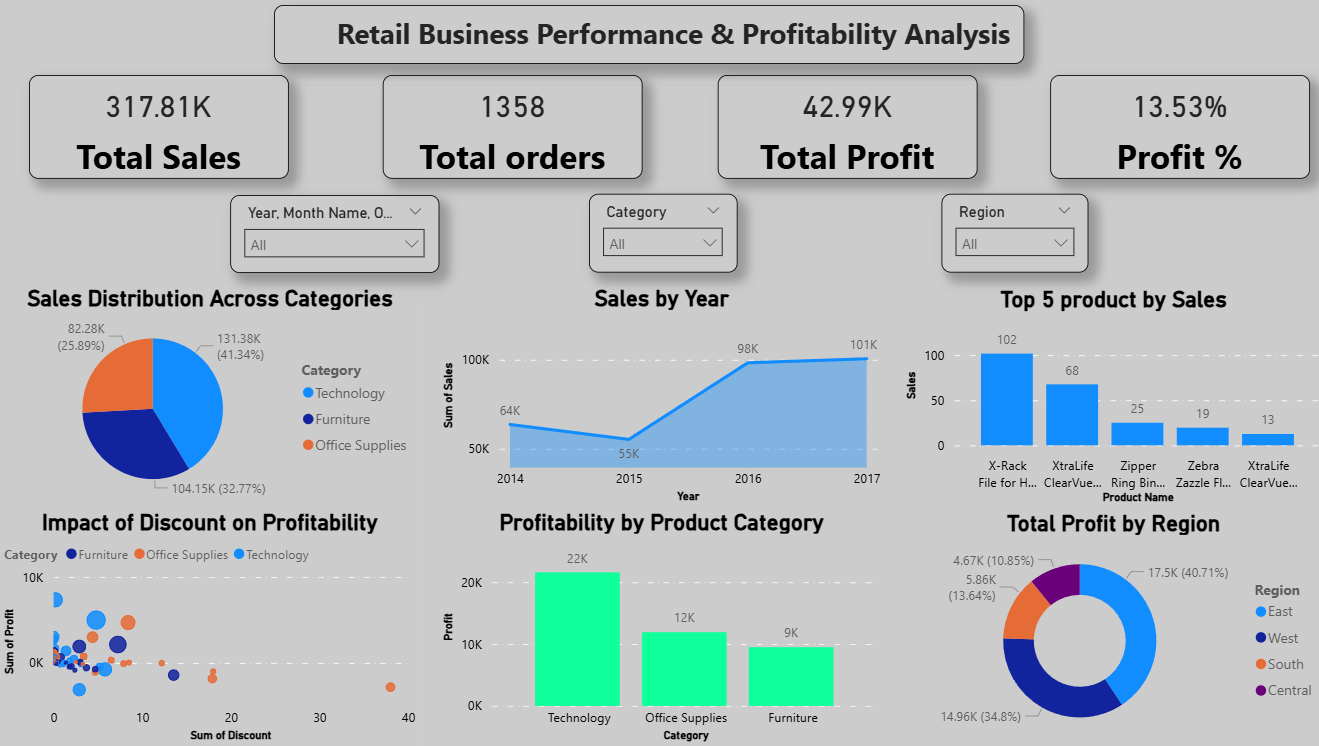

The dashboard page shown, as its layout file describes it:
{"tool":"powerbi","page":{"name":"Page 1","canvas":[1280,720],"ordinal":0},"visuals":[{"type":"card","fields":{"Values":["Sample - Superstore.Total Sales"]},"box":[28.6,72.9,250,100],"z":0},{"type":"card","fields":{"Values":["Sum(Sample - Superstore.Profit)"]},"box":[692.9,72.9,250,100],"z":1000},{"type":"lineChart","title":"Sales by Year","fields":{"Category":["Sample - Superstore.Year"],"Y":["Sum(Sample - Superstore.Sales)"]},"box":[423.3,275,431.7,215],"z":2000},{"type":"scatterChart","title":"Impact of Discount on Profitability","fields":{"Category":["Sample - Superstore.State"],"Size":["Sum(Sample - Superstore.Sales)"],"Series":["Sample - Superstore.Category"],"Y":["Sum(Sample - Superstore.Profit)"],"X":["Sum(Sample - Superstore.Discount)"]},"box":[0,490,406.7,230],"z":3000},{"type":"donutChart","title":"Total Profit by Region","fields":{"Y":["Sum(Sample - Superstore.Profit)"],"Category":["Sample - Superstore.Region"]},"box":[868.6,491.4,411.4,228.6],"z":4000},{"type":"clusteredColumnChart","title":"Profitability by Product Category","fields":{"Category":["Sample - Superstore.Category"],"Y":["Sum(Sample - Superstore.Profit)"]},"box":[423.3,490,431.7,230],"z":5000},{"type":"pieChart","title":"Sales Distribution Across Categories","fields":{"Category":["Sample - Superstore.Category"],"Y":["Sum(Sample - Superstore.Sales)"]},"box":[0,275,406.7,215],"z":6000},{"type":"columnChart","title":"Top 5 product by Sales","fields":{"Category":["Sample - Superstore.Product Name"],"Y":["Sum(Sample - Superstore.Sales)"]},"box":[868.6,275.7,411.4,214.3],"z":7000},{"type":"slicer","fields":{"Values":["Sample - Superstore.Region"]},"box":[908.6,187.1,141.4,75.7],"z":8000},{"type":"slicer","fields":{"Values":["Sample - Superstore.Year","Sample - Superstore.Month Name","Sample - Superstore.Order Date"]},"box":[222.5,187.5,201.2,75],"z":9000},{"type":"slicer","fields":{"Values":["Sample - Superstore.Category"]},"box":[568.6,187.1,142.9,75.7],"z":10000},{"type":"card","fields":{"Values":["Sample - Superstore.Total orders"]},"box":[370,72.9,250,100],"z":11000},{"type":"card","fields":{"Values":["Sample - Superstore.Profit %"]},"box":[1012.9,72.9,250,100],"z":12000},{"type":"textbox","box":[265.1,4.7,723.3,57],"z":13000}]}

Visuals, with their boxes in screenshot pixels (x1, y1, x2, y2), scaled from the page's 1280x720 canvas onto the 1319x746 screenshot:
card - Sample - Superstore.Total Sales: <bbox>29, 76, 287, 179</bbox>
card - Sum(Sample - Superstore.Profit): <bbox>714, 76, 972, 179</bbox>
"Sales by Year" lineChart: <bbox>436, 285, 881, 508</bbox>
"Impact of Discount on Profitability" scatterChart: <bbox>0, 508, 419, 745</bbox>
"Total Profit by Region" donutChart: <bbox>895, 509, 1318, 745</bbox>
"Profitability by Product Category" clusteredColumnChart: <bbox>436, 508, 881, 745</bbox>
"Sales Distribution Across Categories" pieChart: <bbox>0, 285, 419, 508</bbox>
"Top 5 product by Sales" columnChart: <bbox>895, 286, 1318, 508</bbox>
slicer - Sample - Superstore.Region: <bbox>936, 194, 1082, 272</bbox>
slicer - Sample - Superstore.Year x Sample - Superstore.Month Name: <bbox>229, 194, 437, 272</bbox>
slicer - Sample - Superstore.Category: <bbox>586, 194, 733, 272</bbox>
card - Sample - Superstore.Total orders: <bbox>381, 76, 639, 179</bbox>
card - Sample - Superstore.Profit %: <bbox>1044, 76, 1301, 179</bbox>
textbox: <bbox>273, 5, 1019, 64</bbox>
